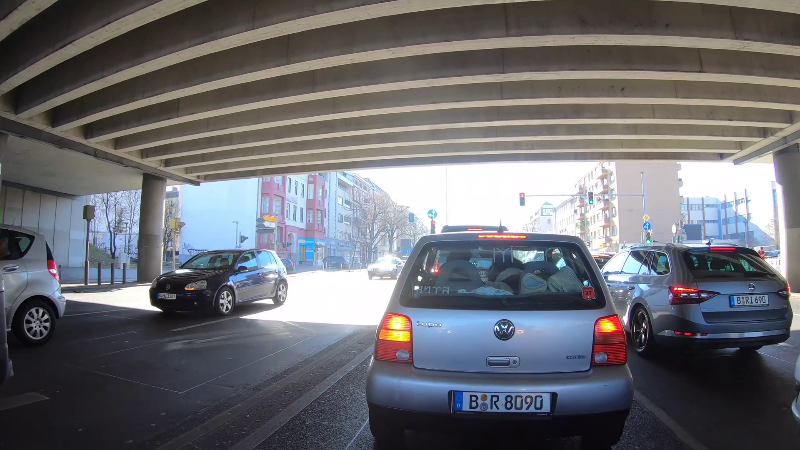Plate: (450, 387, 553, 415), (729, 293, 771, 307), (155, 291, 178, 300)
